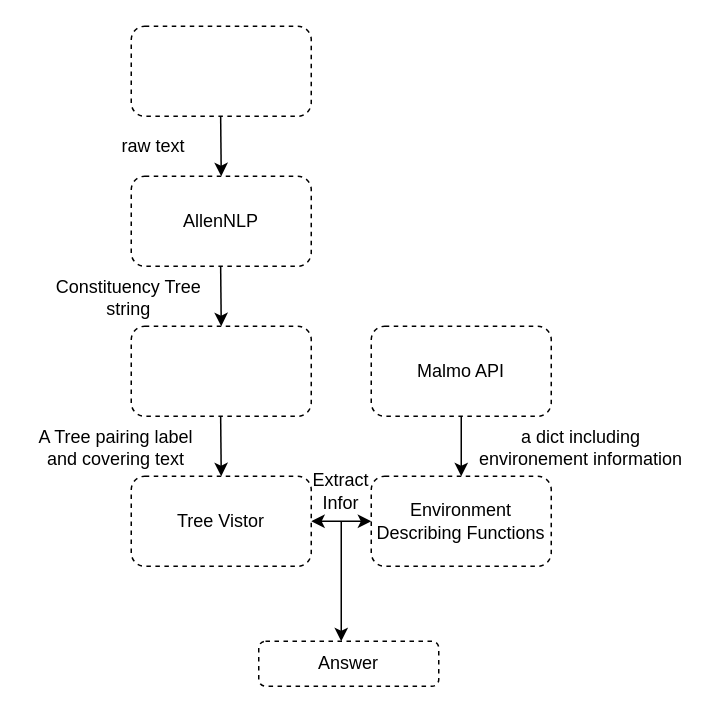
Some shapes in this 711 by 713 pixel diagram are drawn without their labels. Here are the shapes that lost their labels. From the top down, the box of each, then its label:
(130, 25, 311, 116): User question text
(130, 325, 311, 416): Tree Node
